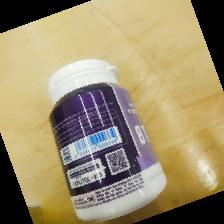Xylitol_BTS: (44, 56, 166, 222)
